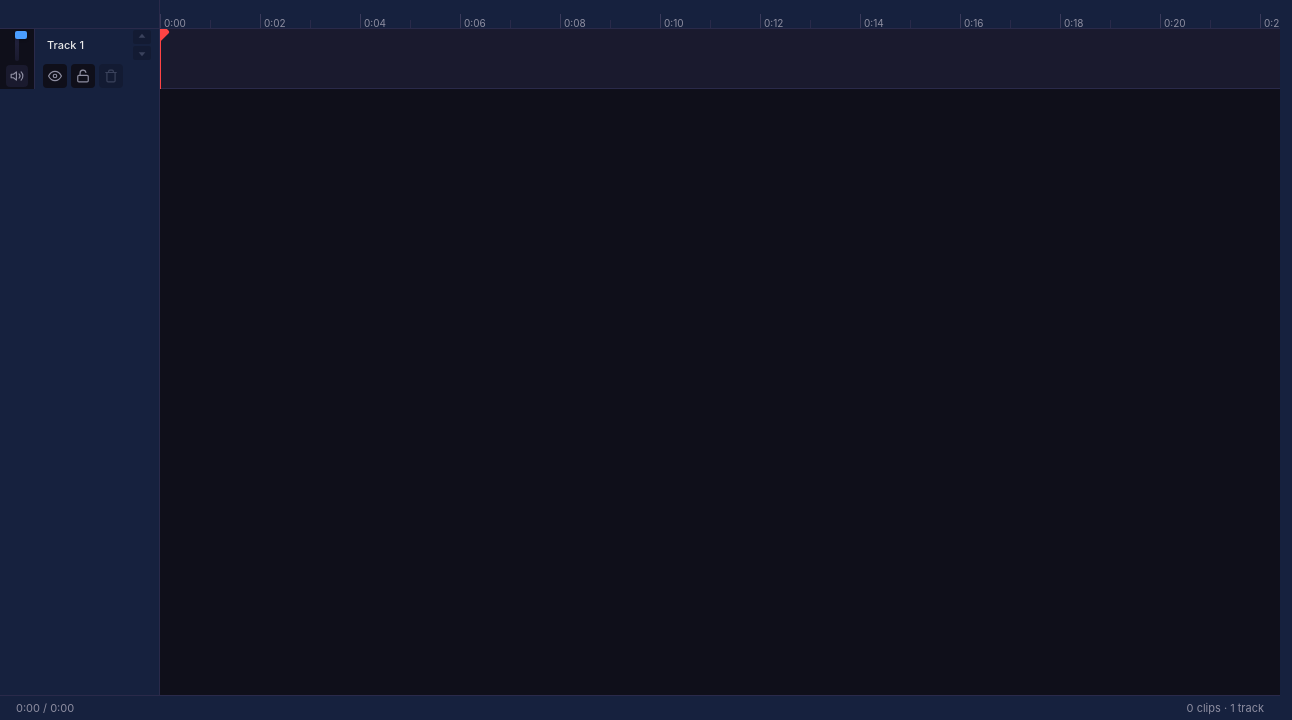
Test: Timeline track headers › renames a track from a double-click and Enter
The image size is (1292, 720).
Double-click the button "Track 1" at (86, 45), box [43,36,129,54]
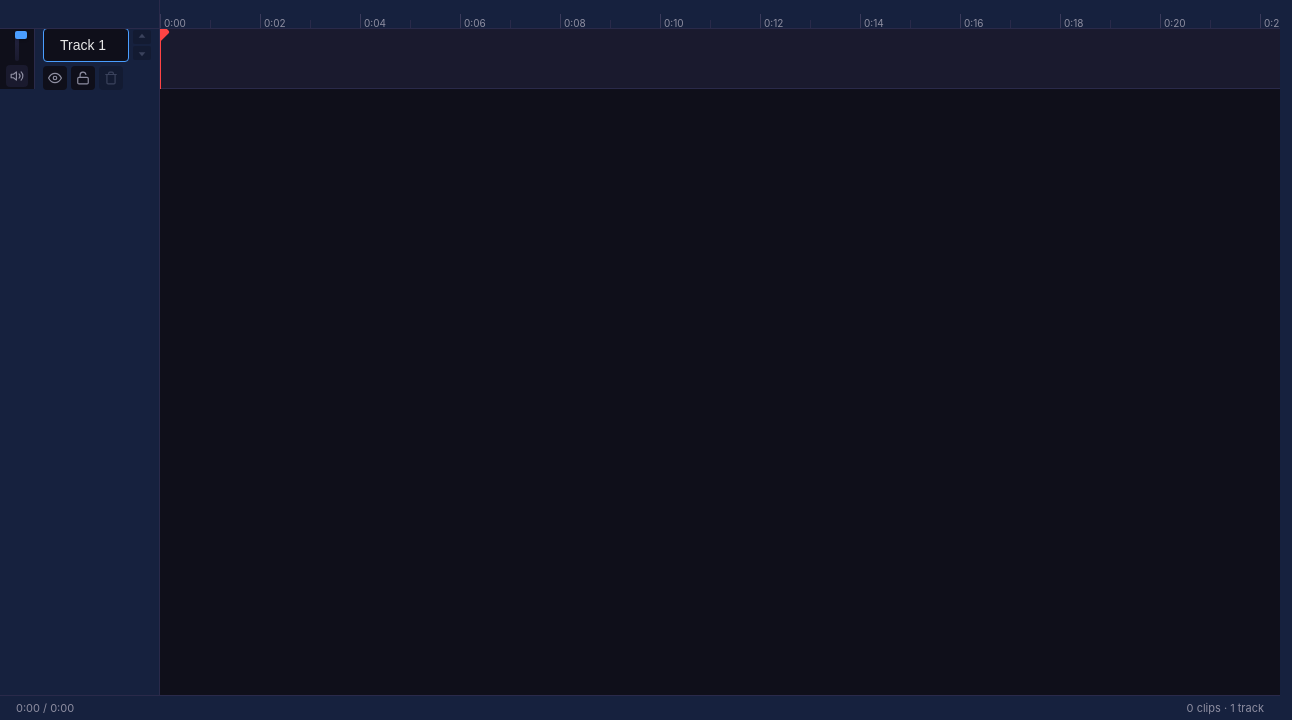
Replace the text in the field with "Dialogue" at (86, 45), box [43,28,129,62]
Then press Enter
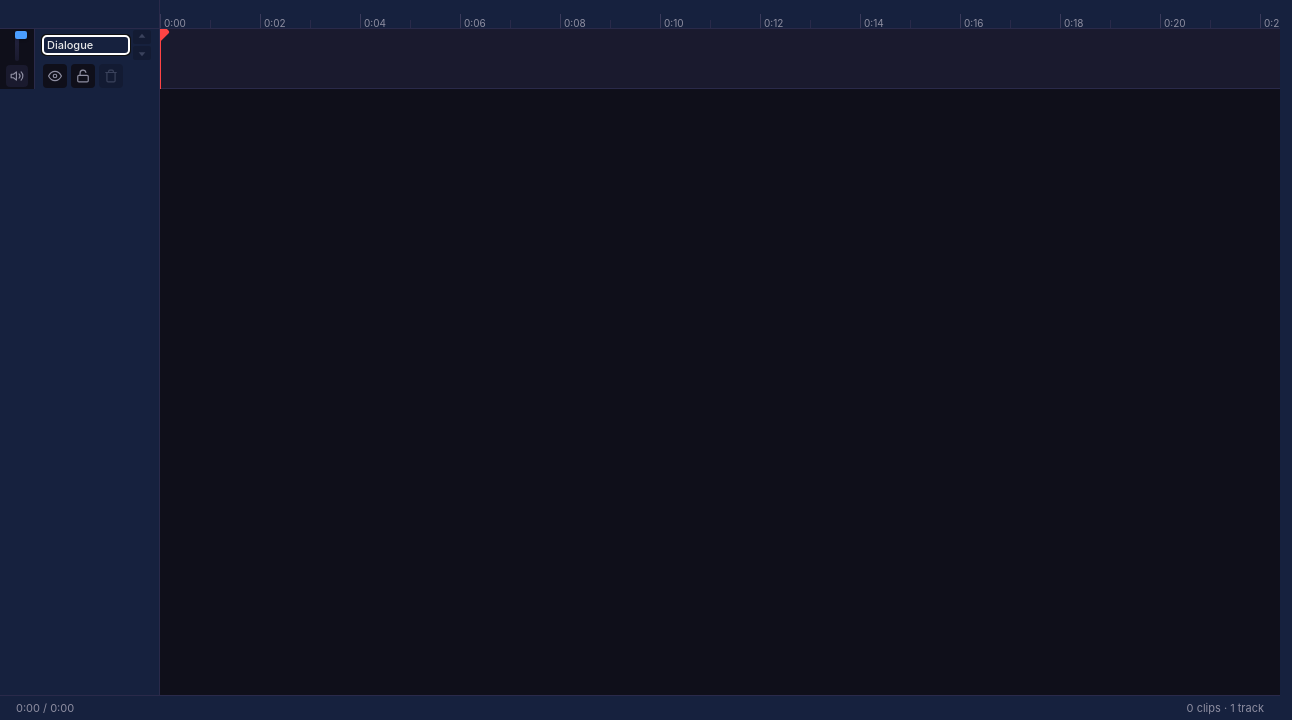
Expected: the button "Dialogue" is shown, [43,36,129,54]
Expected: the field is gone
